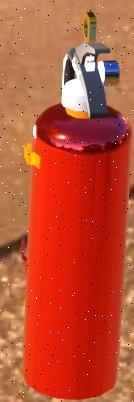Fire Extinguisher: (20, 11, 134, 402)
